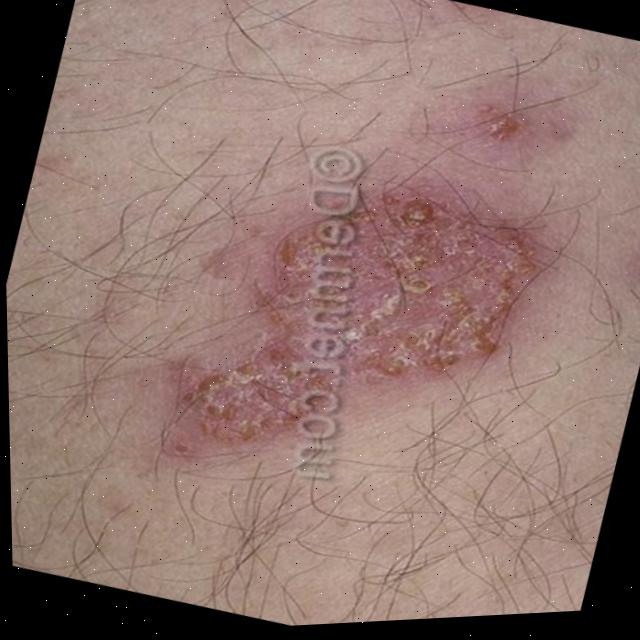Eczema: (125, 123, 536, 553)
